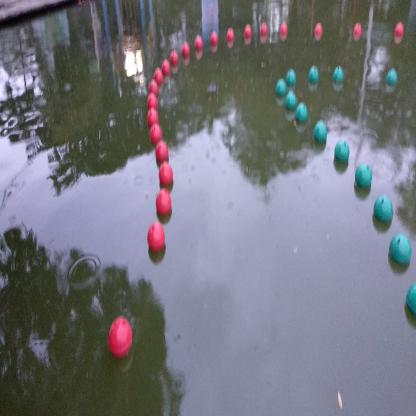green_buoy: (388, 232, 411, 272), (374, 192, 392, 228), (357, 163, 372, 194), (336, 142, 349, 167), (308, 61, 320, 87), (274, 76, 288, 98), (315, 122, 326, 148), (284, 89, 296, 112), (297, 100, 308, 124), (388, 68, 398, 90), (287, 67, 298, 86), (334, 67, 343, 86)
red_buoy: (108, 318, 133, 353), (147, 221, 165, 253), (156, 186, 171, 219), (160, 159, 172, 192), (149, 122, 163, 145), (156, 140, 168, 164), (146, 108, 159, 126), (160, 59, 172, 78), (149, 79, 159, 101), (153, 66, 163, 86), (146, 92, 158, 108), (195, 34, 204, 54), (170, 48, 179, 67), (395, 22, 404, 40), (259, 21, 268, 38), (210, 29, 218, 48), (244, 23, 252, 41), (182, 41, 189, 58), (228, 26, 234, 45), (280, 22, 287, 38), (354, 24, 362, 36), (315, 22, 322, 35)
